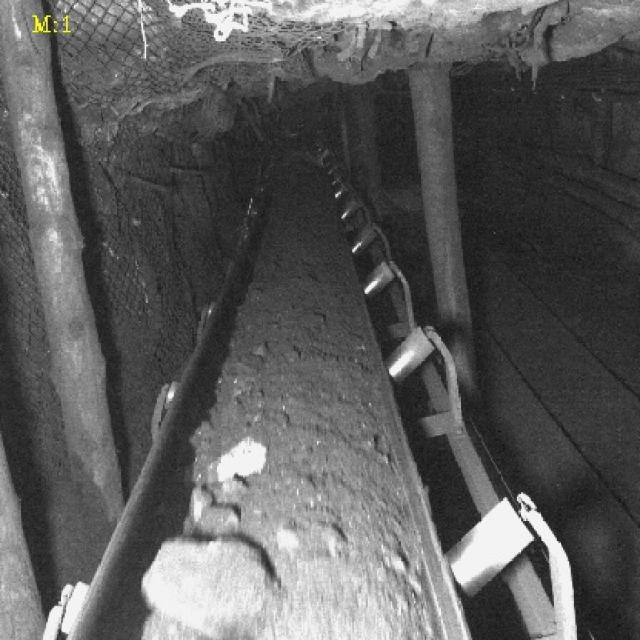large_sized_coal: (140, 536, 282, 636), (209, 437, 269, 480)
